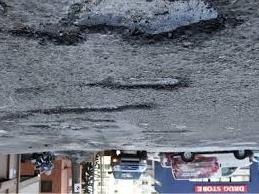pothole: (8, 0, 221, 43), (89, 67, 186, 96), (22, 103, 155, 113), (138, 123, 192, 136), (76, 114, 117, 125)
